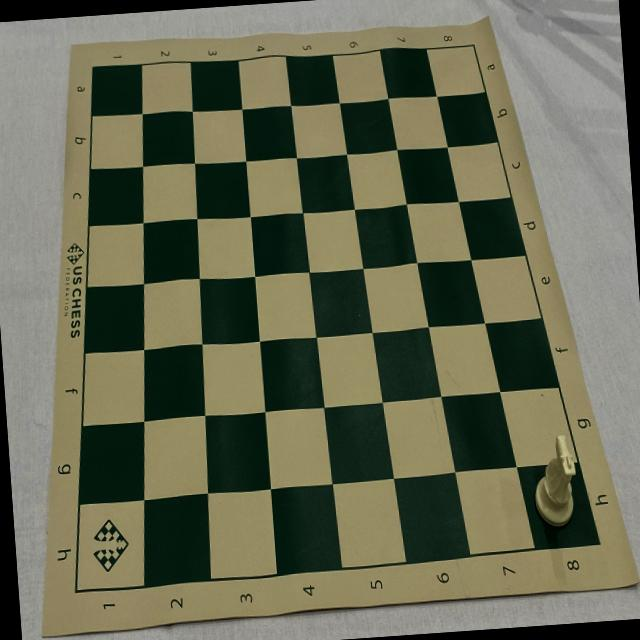white-knight: (530, 432, 580, 530)
